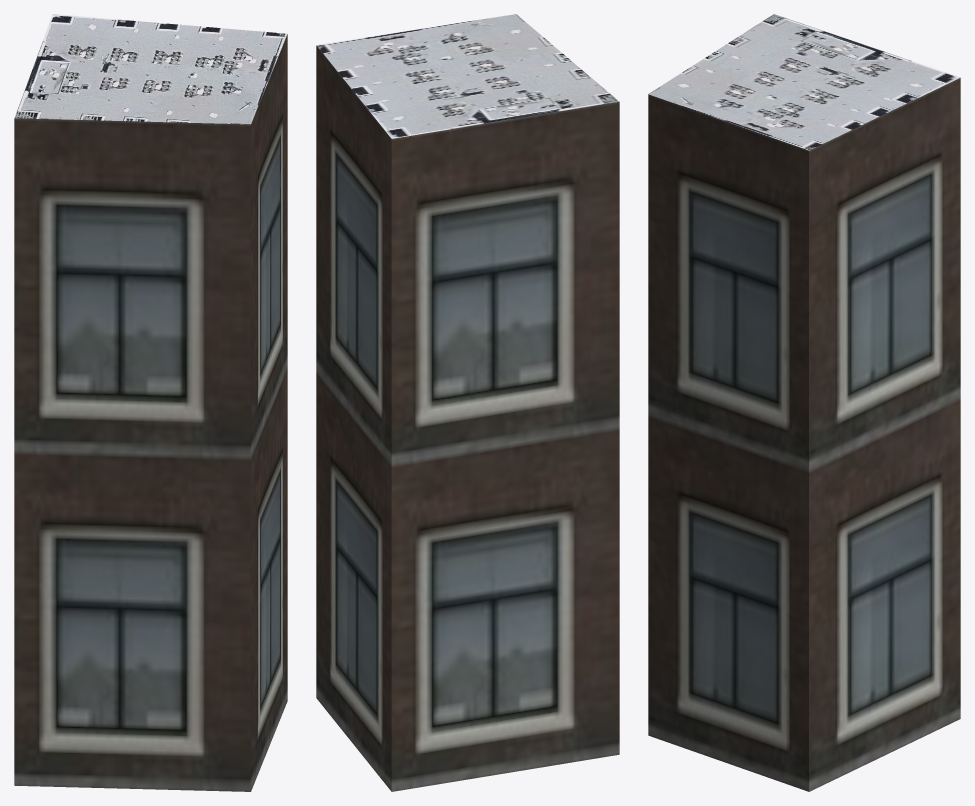
Rendered from ResTex__1774.fbx.
The picture shows the model from 3 angles, left to right: view 1: azimuth 30°, elevation 25°; view 2: azimuth 150°, elevation 25°; view 3: azimuth 270°, elevation 25°; orthographic projection. The views are drawn at different scales.
Visible parts, largest first — view 1: CityEngineMaterial_16_m, CityEngineMaterial_15_m; view 2: CityEngineMaterial_16_m, CityEngineMaterial_15_m; view 3: CityEngineMaterial_16_m, CityEngineMaterial_15_m.
Part boxes in pixels (bbox=[...]): CityEngineMaterial_16_m: bbox=[14, 34, 287, 791]; CityEngineMaterial_15_m: bbox=[14, 14, 287, 124]; CityEngineMaterial_16_m: bbox=[316, 45, 619, 791]; CityEngineMaterial_15_m: bbox=[317, 14, 618, 138]; CityEngineMaterial_16_m: bbox=[648, 78, 960, 791]; CityEngineMaterial_15_m: bbox=[648, 14, 960, 150].
Bounding box in the file's own units: 2.74 × 6 × 2.65.
Materials: 2 (2 with a texture image).
